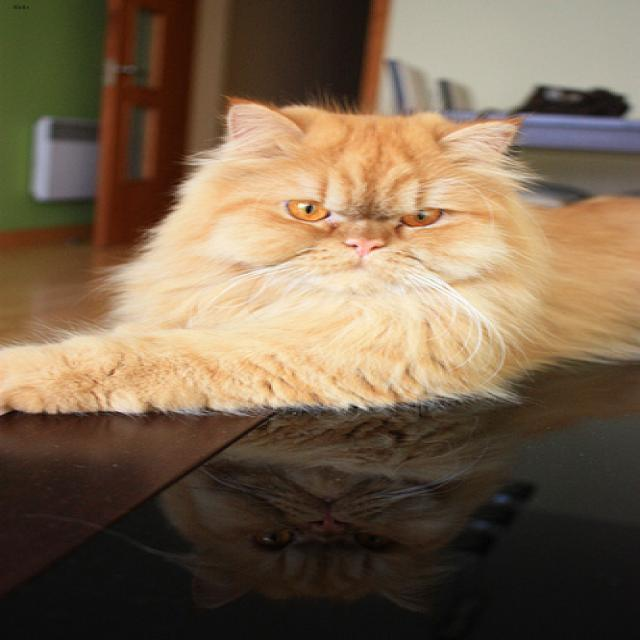Persian: (225, 96, 515, 292)
